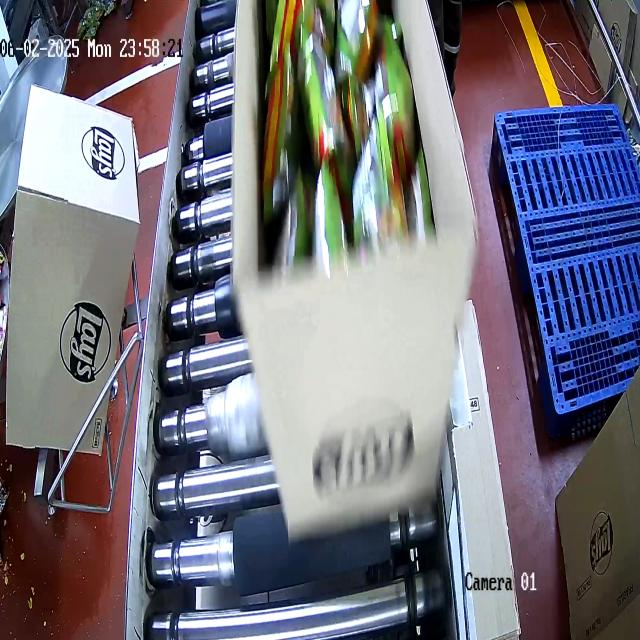YOGURT_HERB: (266, 0, 415, 280)
